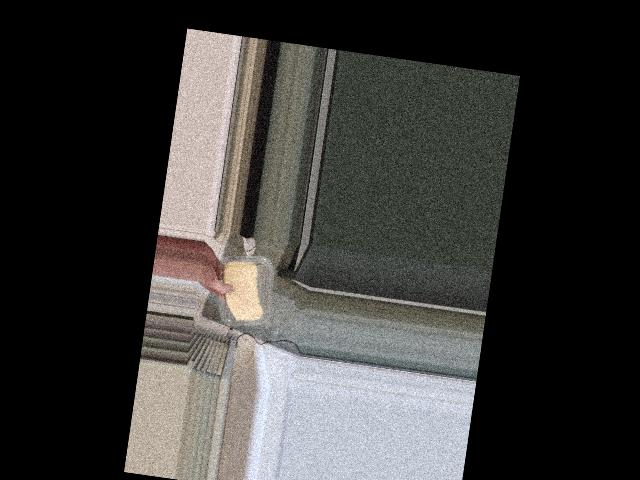cheese: (212, 251, 273, 328)
